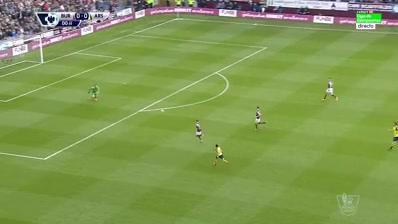futbol: (159, 107, 166, 115)
player: (252, 104, 270, 135), (320, 76, 341, 102), (211, 142, 229, 167), (191, 118, 207, 146), (385, 118, 397, 155), (87, 82, 102, 105)
